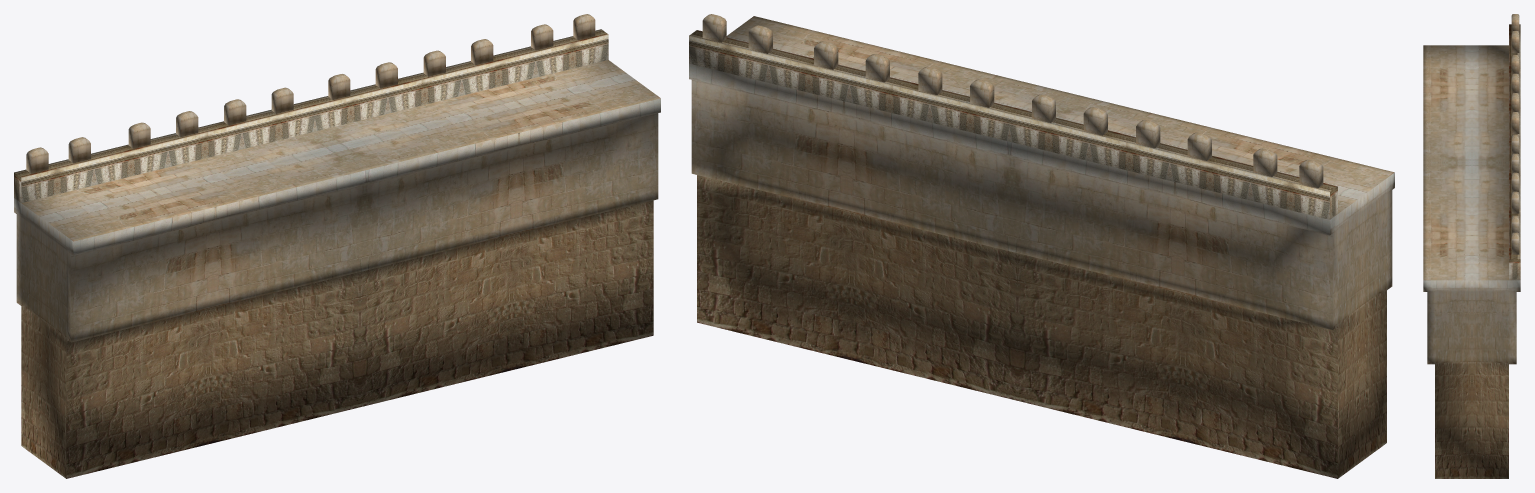
The model's file is wall_small.dae.
The picture shows the model from 3 angles, left to right: view 1: azimuth 30°, elevation 25°; view 2: azimuth 150°, elevation 25°; view 3: azimuth 270°, elevation 25°; orthographic projection. The views are drawn at different scales.
Parts seen in each view (by area): view 1: meshU3D; view 2: meshU3D; view 3: meshU3D.
Part boxes in pixels (x1,y1,x2,y2): meshU3D: (14, 14, 660, 478); meshU3D: (689, 14, 1394, 478); meshU3D: (1423, 14, 1520, 478).
Size of the model in its own units: 555 by 261 by 97.38.
